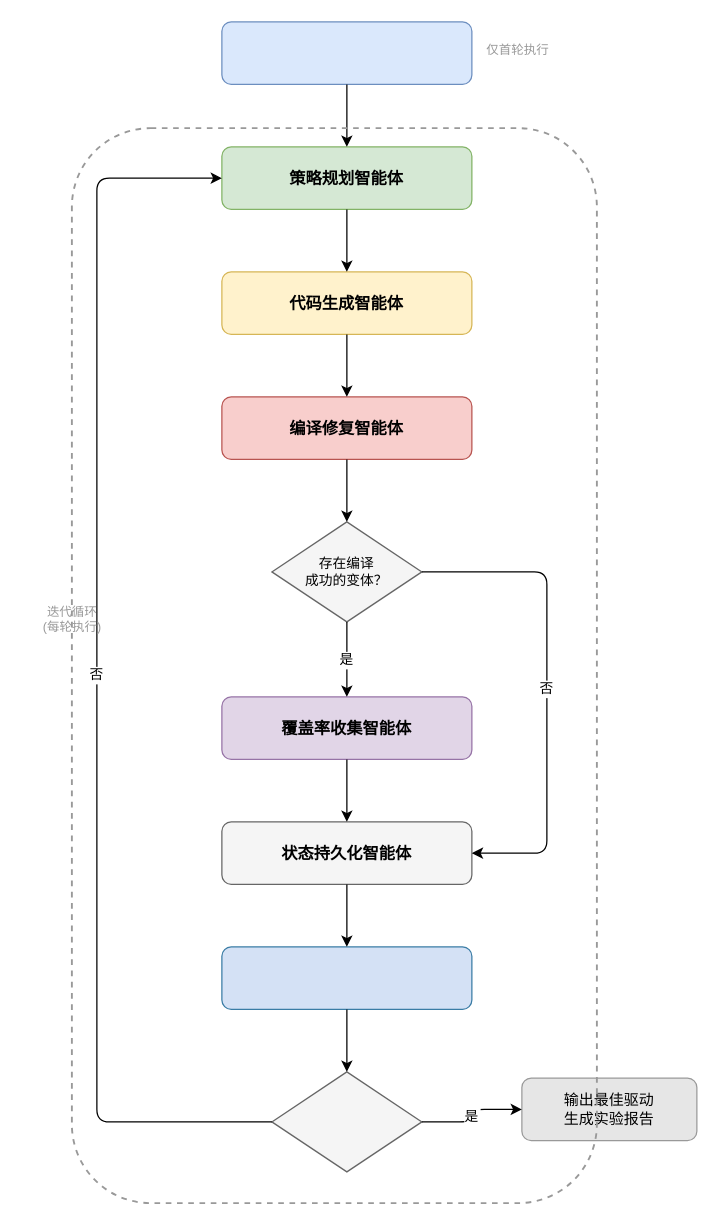
The diagram is 719 pixels wide and 1226 high, and some of its shapes have lost their labels. The shapes that lost their labels are listed below. From the top down, each one's centre as x and y in pixels, then its label:
At (x=346, y=52): "Knowledge Agent".
At (x=346, y=977): "缺口诊断智能体".
At (x=346, y=1121): "满足终止 条件？".
